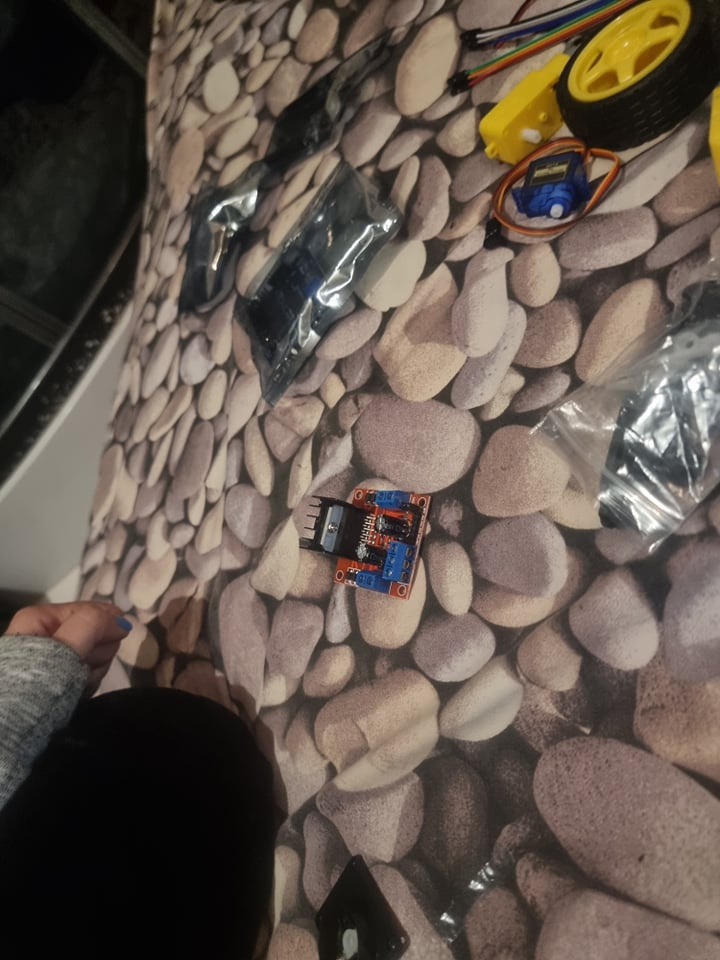MOTOR: (296, 487, 434, 603)
